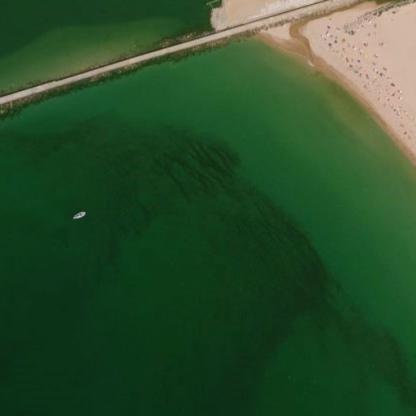ship: (64, 204, 91, 224)
